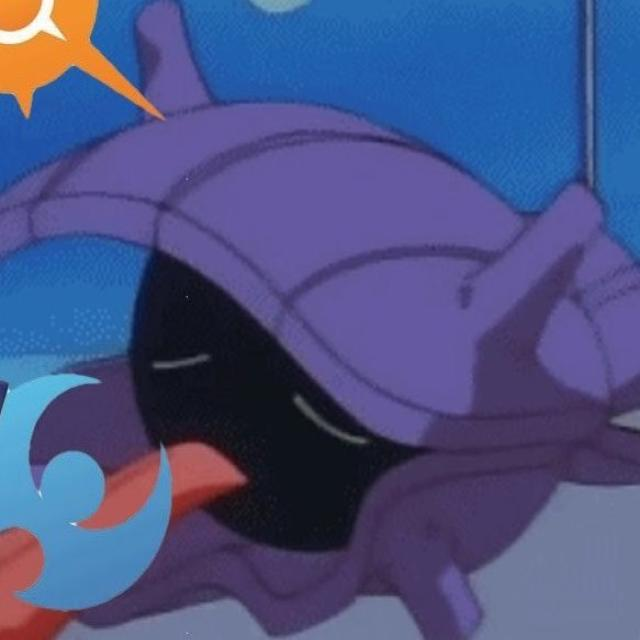Shellder: (114, 76, 557, 602)
